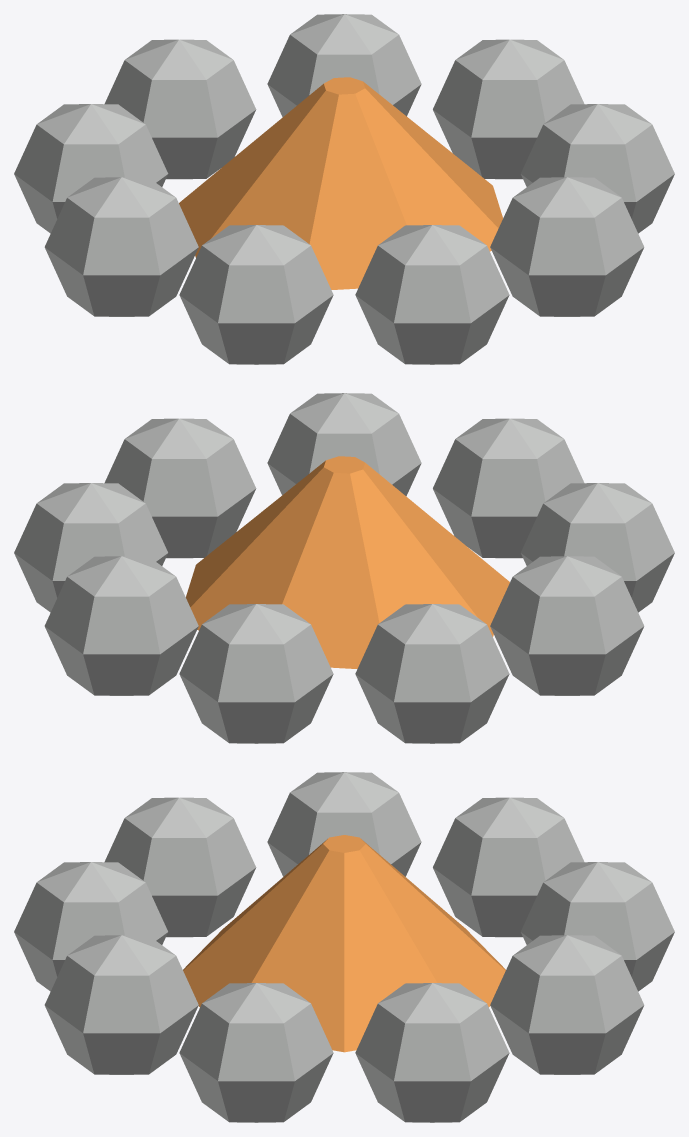
Rendered from hearth.glb.
3 views of the same model, one above another, from view 1: azimuth 30°, elevation 25°; view 2: azimuth 150°, elevation 25°; view 3: azimuth 270°, elevation 25° (orthographic).
Visible parts, largest first — view 1: hearth, hearth_fire; view 2: hearth, hearth_fire; view 3: hearth, hearth_fire.
Part boxes in pixels (left/top/right/bottom): hearth: left=14, top=14, right=674, bottom=364; hearth_fire: left=179, top=77, right=502, bottom=289; hearth: left=14, top=393, right=674, bottom=743; hearth_fire: left=186, top=456, right=509, bottom=668; hearth: left=14, top=772, right=674, bottom=1122; hearth_fire: left=183, top=835, right=505, bottom=1052.
Bounding box in the file's own units: 1.48 × 0.455 × 1.54.
